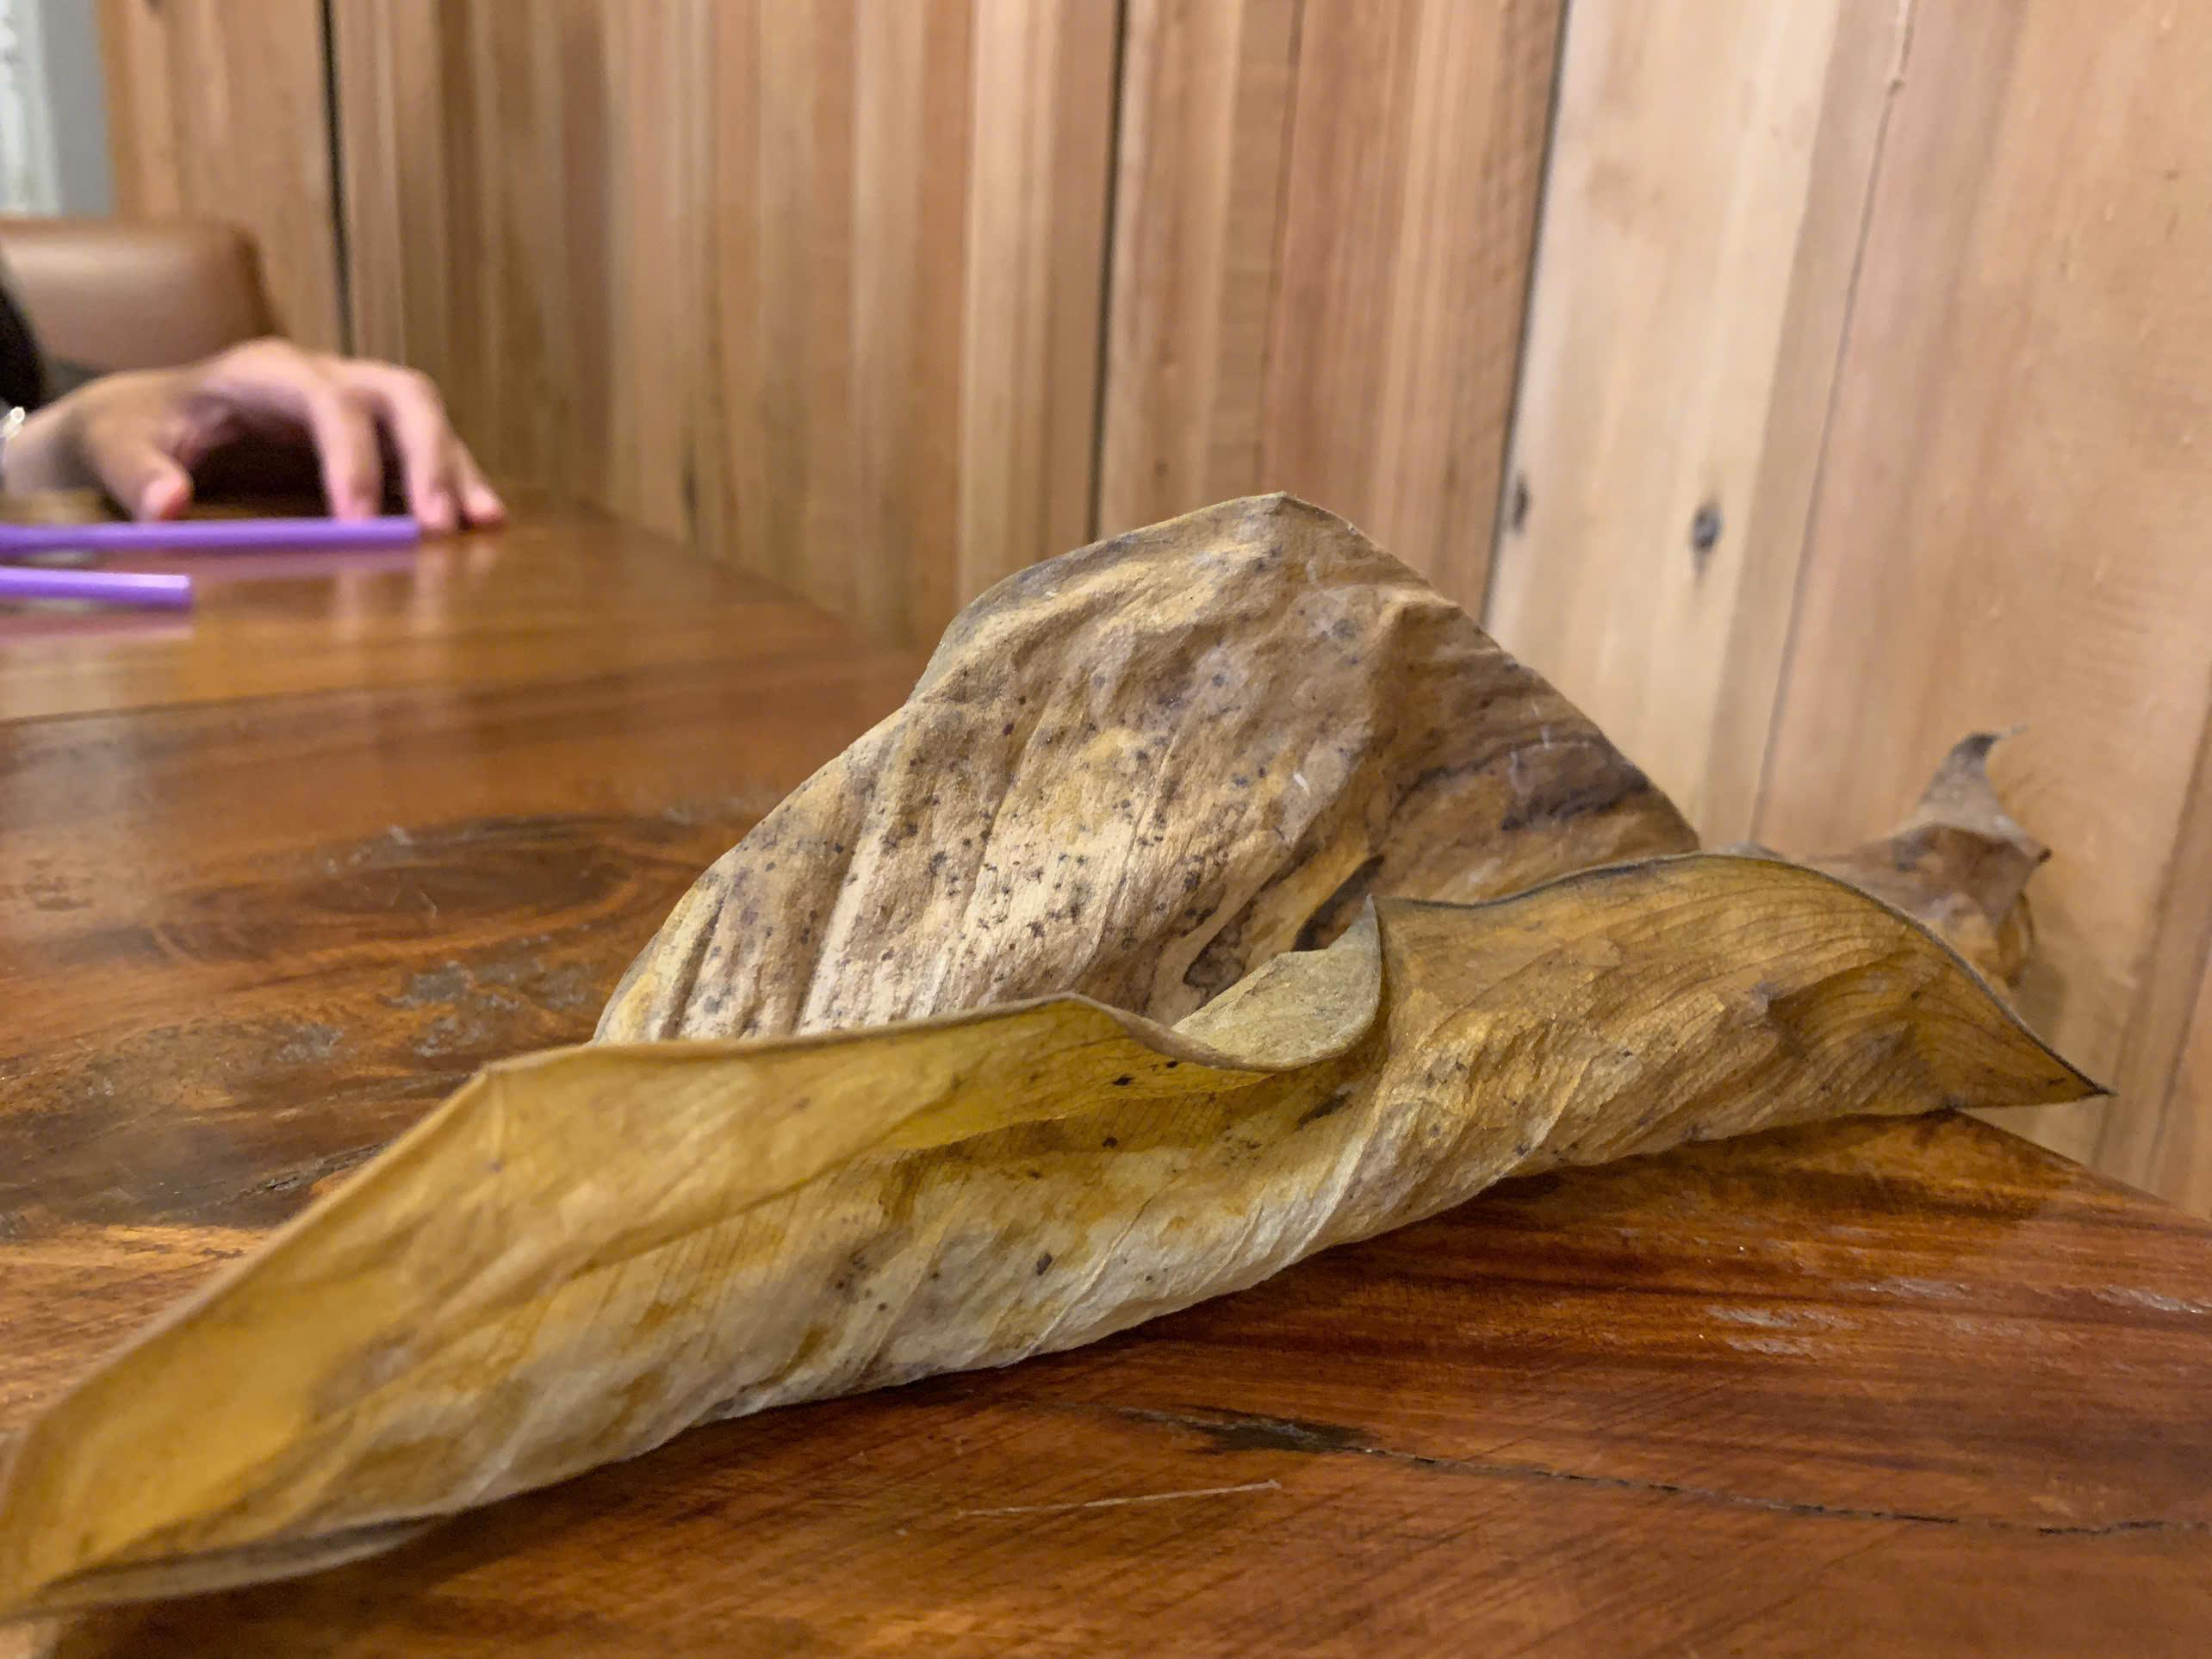Huu co: (14, 606, 2132, 1398)
